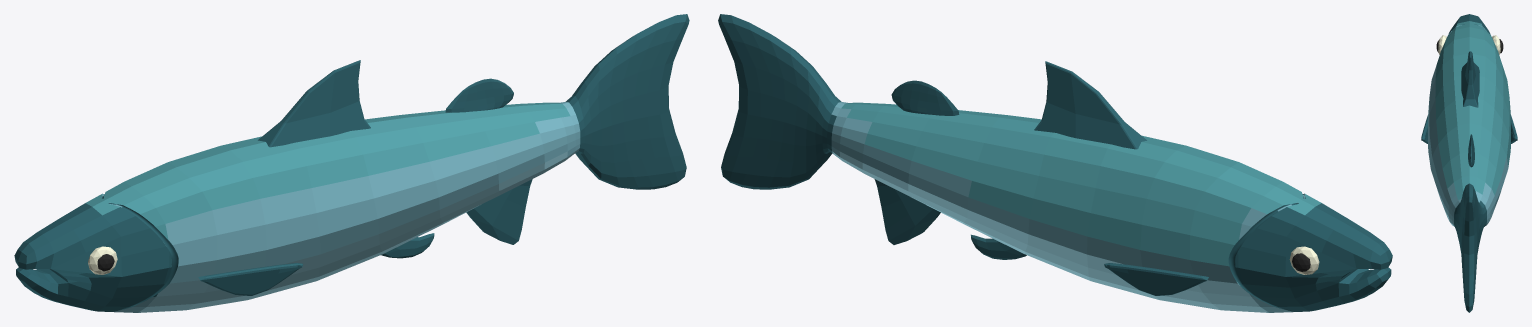
The model's file is sanwenyu.fbx.
3 views of the same model, side by side, from view 1: azimuth 30°, elevation 25°; view 2: azimuth 150°, elevation 25°; view 3: azimuth 270°, elevation 25° (orthographic). The views are drawn at different scales.
Parts seen in each view (by area): view 1: body, wings01, wings05, wings03, wings02, wings04, eyer01; view 2: body, wings01, wings05, wings03, wings02, wings04; view 3: body, wings01, wings03, eyer01, wings02.
Boxes of the visible parts, x1,y1,x2,y2 form: body: [14, 14, 689, 312]; wings01: [258, 60, 370, 147]; wings05: [466, 179, 532, 244]; wings03: [198, 263, 303, 295]; wings02: [445, 78, 513, 112]; wings04: [381, 233, 434, 258]; eyer01: [88, 246, 117, 274]; body: [718, 14, 1392, 312]; wings01: [1034, 61, 1146, 149]; wings05: [874, 179, 940, 244]; wings03: [1104, 263, 1208, 295]; wings02: [891, 80, 959, 115]; wings04: [971, 234, 1026, 259]; body: [1428, 14, 1510, 312]; wings01: [1461, 51, 1479, 107]; wings03: [1421, 115, 1517, 143]; eyer01: [1438, 35, 1500, 54]; wings02: [1468, 134, 1474, 167].
Size of the model in its own units: 173 by 54.38 by 29.85.
